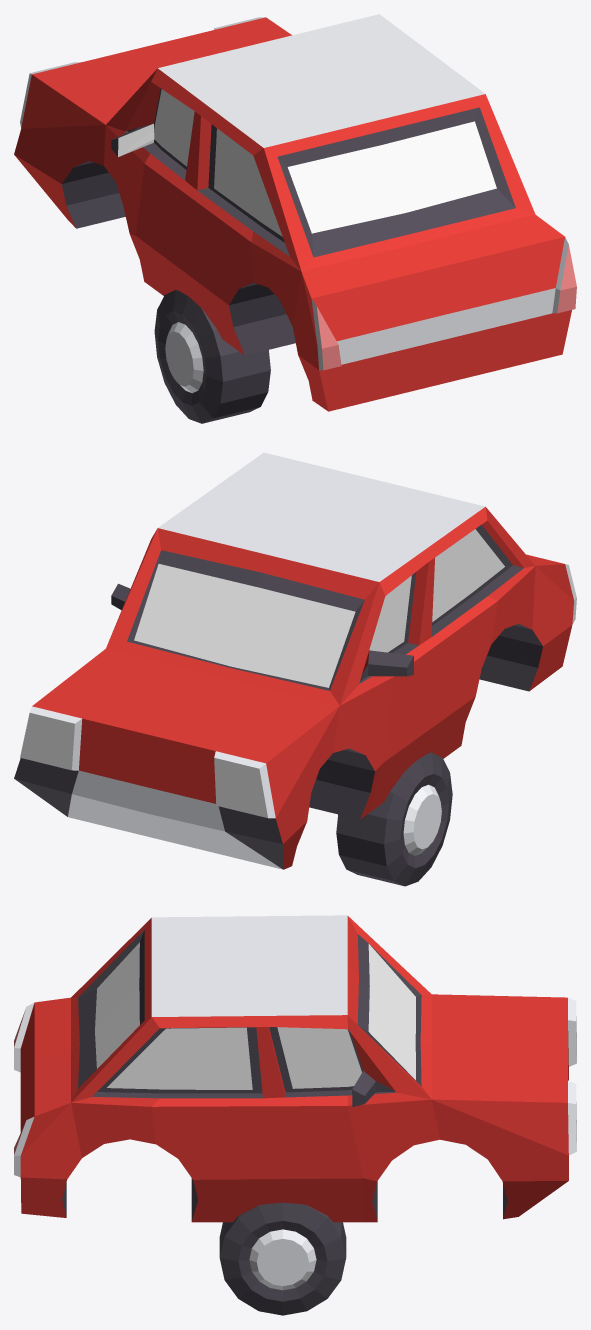
The model's file is Car_02.fbx.
3 views of the same model, one above another, from view 1: azimuth 30°, elevation 25°; view 2: azimuth 150°, elevation 25°; view 3: azimuth 270°, elevation 25° (orthographic). The views are drawn at different scales.
Visible parts, largest first — view 1: Car.001, weels.001; view 2: Car.001, weels.001; view 3: Car.001, weels.001.
Boxes of the visible parts, left/top/right/bottom form: Car.001: left=14, top=14, right=576, bottom=411; weels.001: left=154, top=289, right=270, bottom=423; Car.001: left=14, top=452, right=576, bottom=869; weels.001: left=336, top=752, right=452, bottom=886; Car.001: left=14, top=915, right=576, bottom=1222; weels.001: left=219, top=1202, right=346, bottom=1315.
Bounding box in the file's own units: 133 × 139 × 238.
